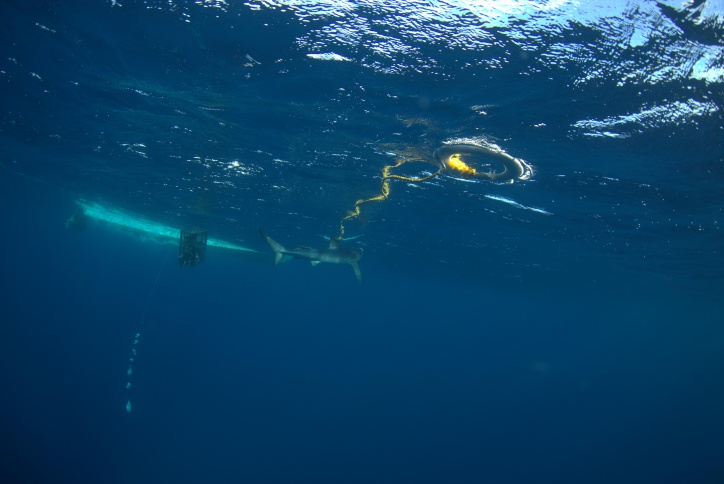Azul: (256, 222, 373, 295)
